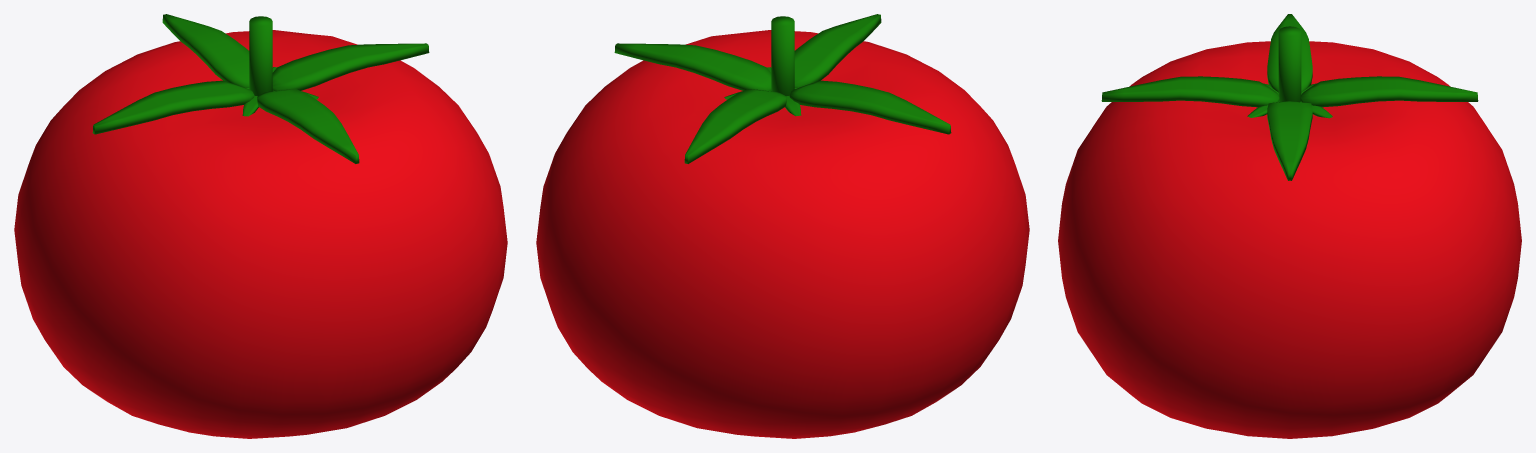
File: pomidor.fbx
The picture shows the model from 3 angles, left to right: view 1: azimuth 30°, elevation 25°; view 2: azimuth 150°, elevation 25°; view 3: azimuth 270°, elevation 25°; orthographic projection. The views are drawn at different scales.
Visible parts, largest first — view 1: Cube, Plane.001, Plane.003, Plane.002, Plane, Cylinder; view 2: Cube, Plane.001, Plane.003, Plane, Plane.002, Cylinder; view 3: Cube, Plane, Plane.002, Plane.001, Cylinder, Plane.003.
Part boxes in pixels (x1=…): Cube: x1=14, y1=30, x2=507, y2=438; Plane.001: x1=272, y1=43, x2=429, y2=91; Plane.003: x1=92, y1=80, x2=254, y2=134; Plane.002: x1=257, y1=89, x2=359, y2=163; Plane: x1=162, y1=14, x2=249, y2=87; Cylinder: x1=249, y1=16, x2=272, y2=95; Cube: x1=536, y1=30, x2=1029, y2=438; Plane.001: x1=614, y1=43, x2=771, y2=90; Plane.003: x1=789, y1=80, x2=951, y2=134; Plane: x1=684, y1=89, x2=786, y2=163; Plane.002: x1=794, y1=14, x2=881, y2=87; Cylinder: x1=771, y1=16, x2=794, y2=95; Cube: x1=1058, y1=41, x2=1521, y2=438; Plane: x1=1300, y1=76, x2=1478, y2=107; Plane.002: x1=1101, y1=76, x2=1279, y2=107; Plane.001: x1=1267, y1=101, x2=1312, y2=180; Cylinder: x1=1278, y1=26, x2=1301, y2=102; Plane.003: x1=1267, y1=14, x2=1312, y2=92.
Size of the model in its own units: 196 by 163 by 191.
